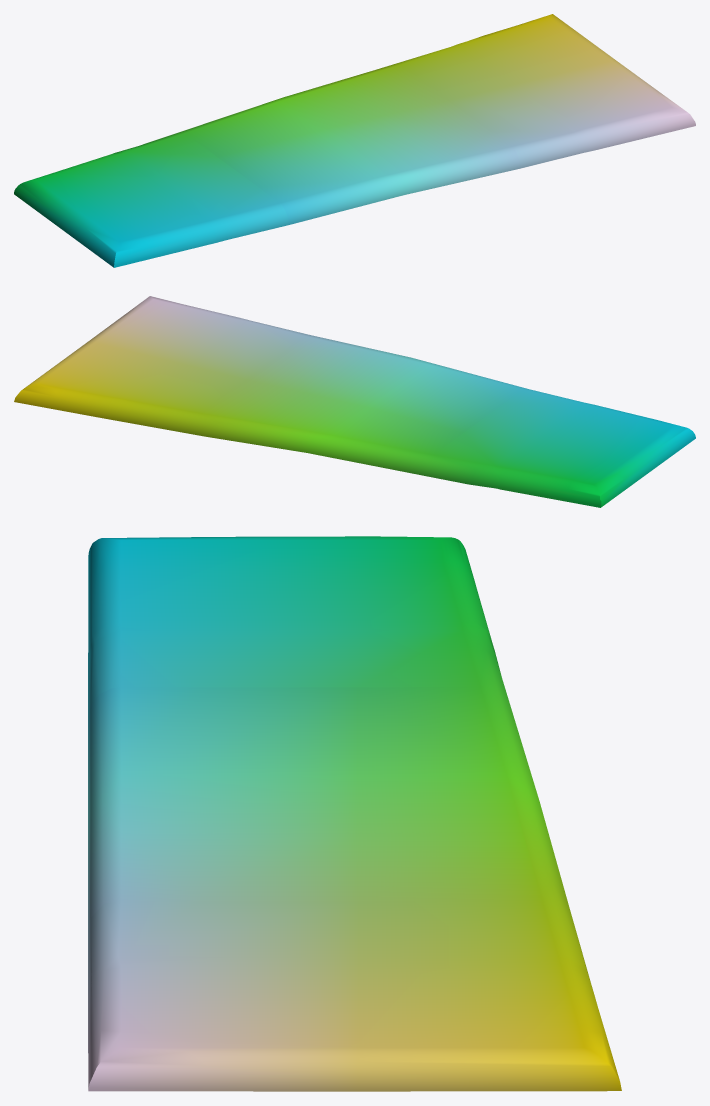
The model's file is SM_ROAD_19_5_7_19_buffer.FBX.
3 views of the same model, one above another, from view 1: azimuth 30°, elevation 25°; view 2: azimuth 150°, elevation 25°; view 3: azimuth 270°, elevation 25° (orthographic). The views are drawn at different scales.
Parts seen in each view (by area): view 1: SM_ROAD_19_5_7_19_buffer; view 2: SM_ROAD_19_5_7_19_buffer; view 3: SM_ROAD_19_5_7_19_buffer.
Part boxes in pixels (x1,y1,x2,y2): SM_ROAD_19_5_7_19_buffer: [14, 14, 695, 267]; SM_ROAD_19_5_7_19_buffer: [14, 296, 695, 507]; SM_ROAD_19_5_7_19_buffer: [88, 536, 621, 1091].
Size of the model in its own units: 2005 by 845 by 59.92.
